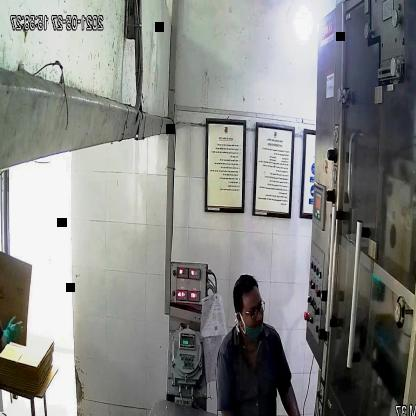goggles: (236, 295, 266, 323)
